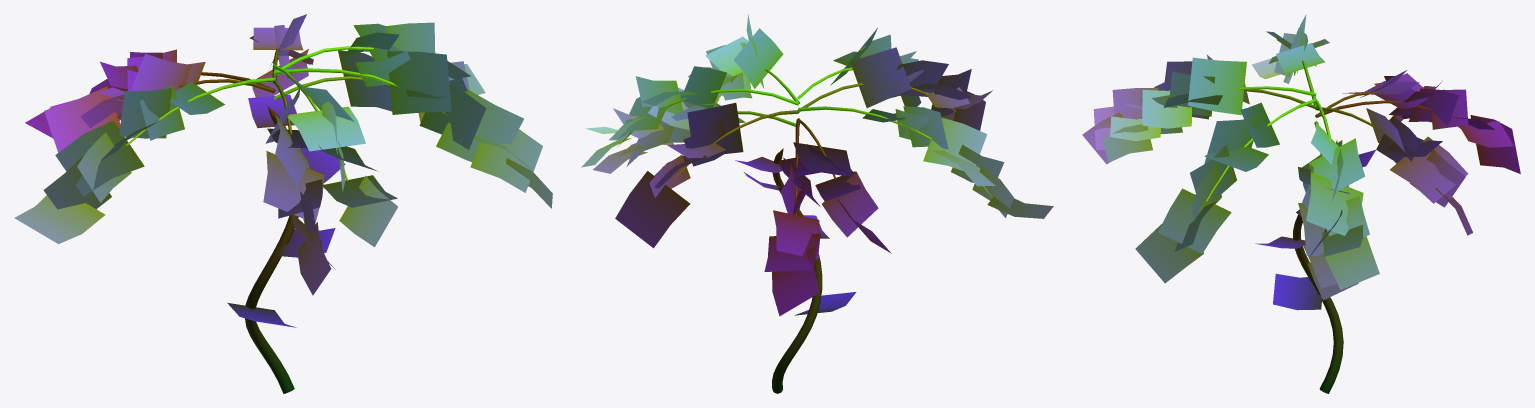
File: vitis_arbustum.glb
3 renders of one model, left to right at view 1: azimuth 30°, elevation 25°; view 2: azimuth 150°, elevation 25°; view 3: azimuth 270°, elevation 25°, orthographic. The views are drawn at different scales.
Parts seen in each view (by area): view 1: vitis_arbustum_lod0; view 2: vitis_arbustum_lod0; view 3: vitis_arbustum_lod0.
Part boxes in pixels (left/top/right/bottom): vitis_arbustum_lod0: left=14, top=14, right=552, bottom=393; vitis_arbustum_lod0: left=581, top=14, right=1053, bottom=393; vitis_arbustum_lod0: left=1082, top=14, right=1520, bottom=393.
Size of what is drawn, in the model's own units: 5.4 by 3.91 by 4.85.
